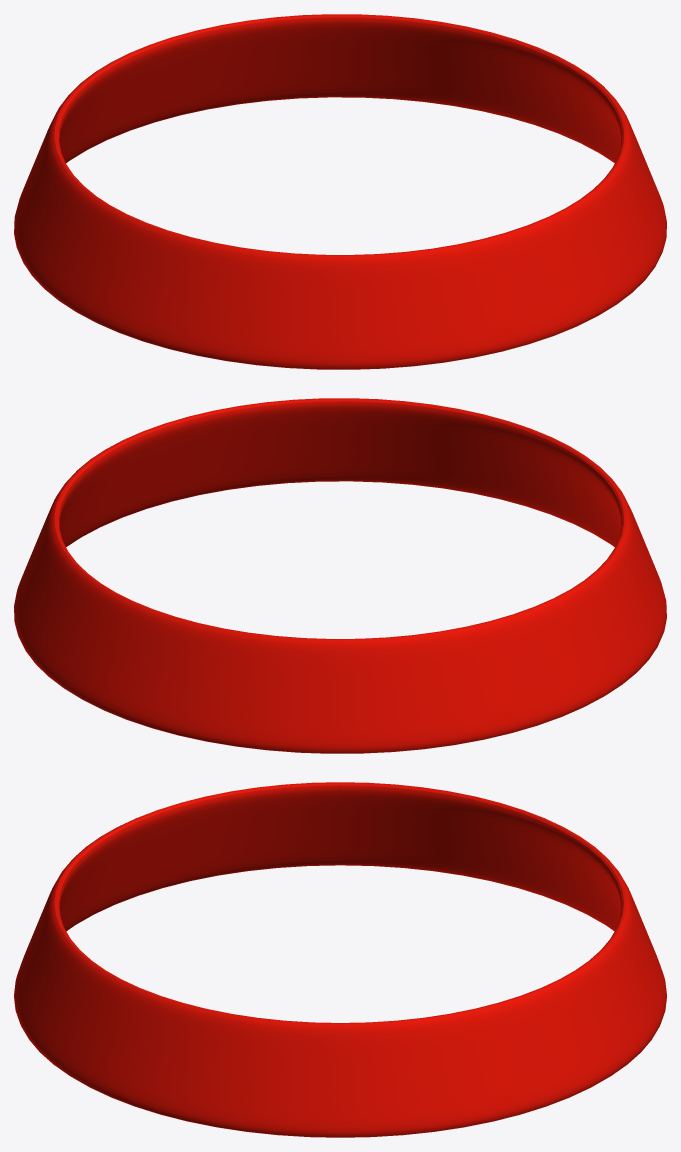
The model's file is MultiPartHat2.fbx.
3 views of the same model, one above another, from view 1: azimuth 30°, elevation 25°; view 2: azimuth 150°, elevation 25°; view 3: azimuth 270°, elevation 25° (orthographic).
Parts seen in each view (by area): view 1: Circle.001; view 2: Circle.001; view 3: Circle.001.
Part boxes in pixels (<box>): Circle.001: <box>14,14,666,369</box>; Circle.001: <box>14,398,666,753</box>; Circle.001: <box>14,782,666,1137</box>.
Bounding box in the file's own units: 104 × 17.2 × 104.
